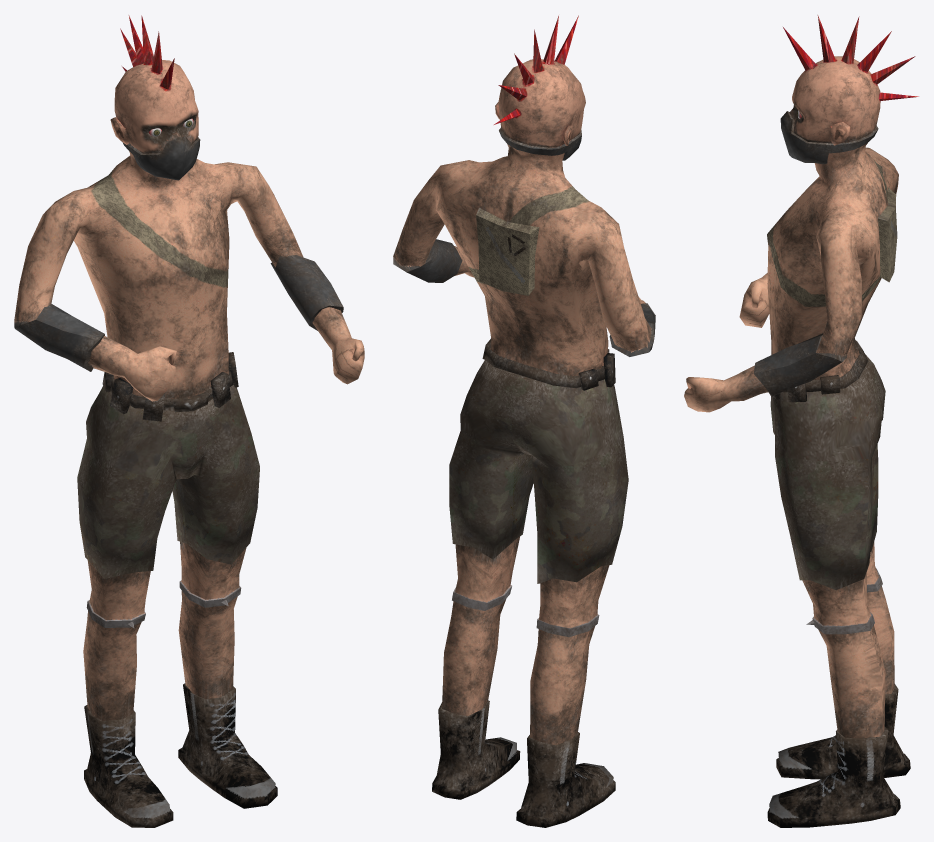
File: Anim_disparar_ametralladora_npc2.0017.obj
3 views of the same model, side by side, from view 1: azimuth 30°, elevation 25°; view 2: azimuth 150°, elevation 25°; view 3: azimuth 270°, elevation 25° (orthographic).
Parts seen in each view (by area): view 1: polySurface1; view 2: polySurface1; view 3: polySurface1.
Part boxes in pixels (<box>): polySurface1: <box>14,15,364,827</box>; polySurface1: <box>393,15,655,827</box>; polySurface1: <box>684,15,918,827</box>.
Bounding box in the file's own units: 3.76 × 10.18 × 2.84.
Materials: 2 (2 with a texture image).
